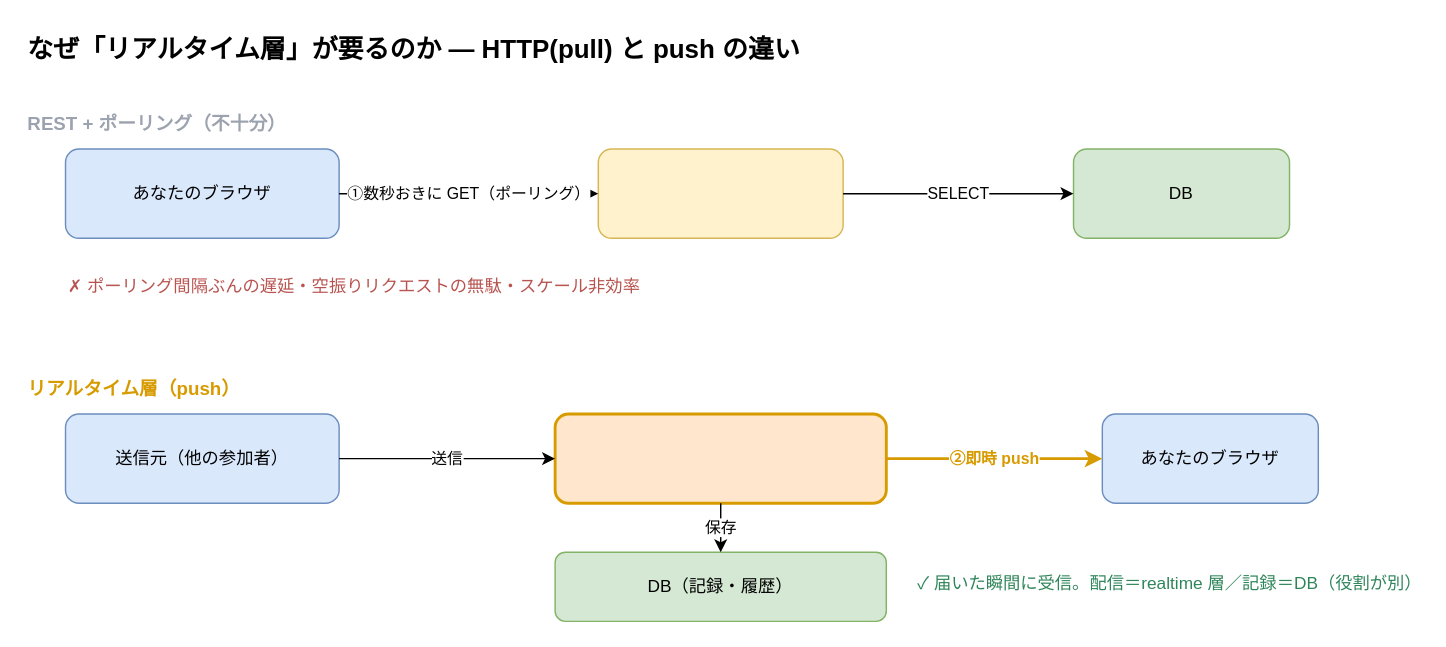
This 1446x647 diagram has some shape labels left out. Each missing label, with the box of its shape:
サーバー / API: (597, 148, 843, 238)
リアルタイム層 WebSocket 常時接続: (553, 412, 887, 504)
